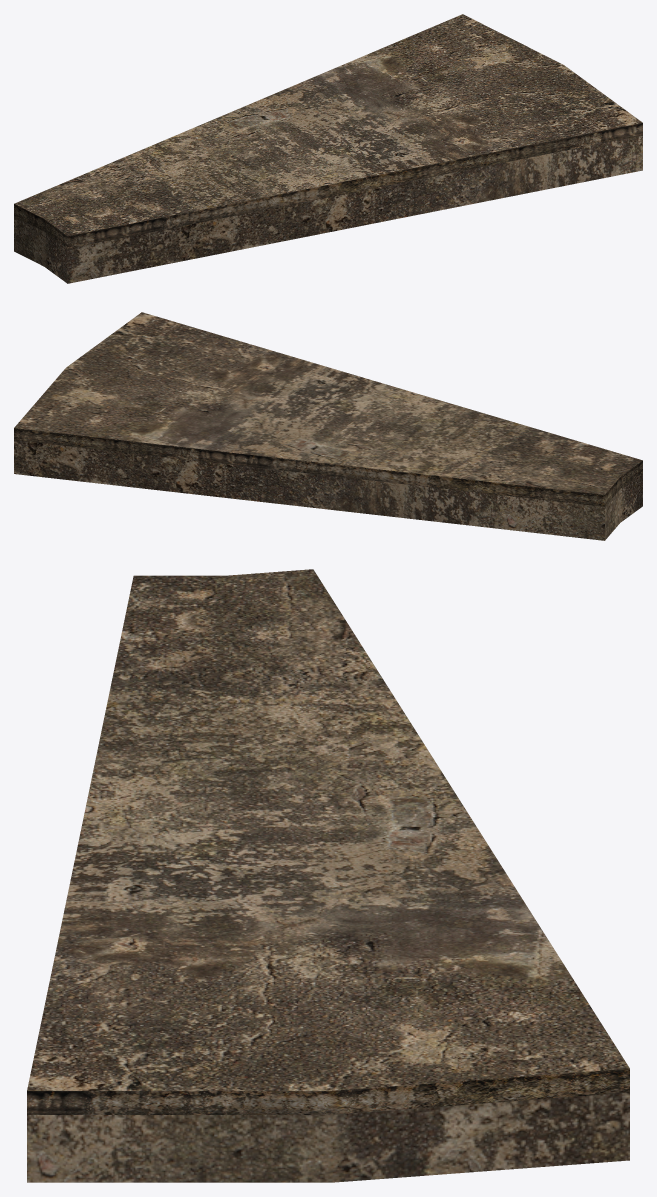
File: materials_5_steps_7.fbx
3 views of the same model, one above another, from view 1: azimuth 30°, elevation 25°; view 2: azimuth 150°, elevation 25°; view 3: azimuth 270°, elevation 25° (orthographic). The views are drawn at different scales.
Visible parts, largest first — view 1: materials_5_steps_7; view 2: materials_5_steps_7; view 3: materials_5_steps_7.
Boxes of the visible parts, bbox=[...] form: materials_5_steps_7: bbox=[14, 14, 642, 283]; materials_5_steps_7: bbox=[14, 312, 642, 540]; materials_5_steps_7: bbox=[27, 569, 629, 1182].
Size of the model in its own units: 85.65 by 7.03 by 41.84.
